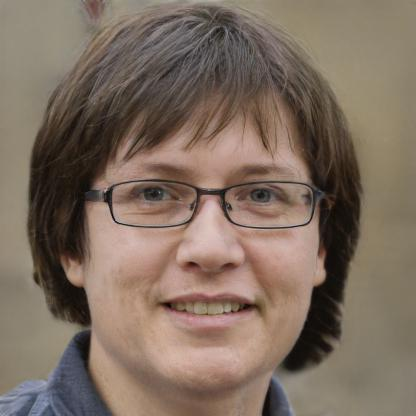glasses: (95, 173, 322, 232)
